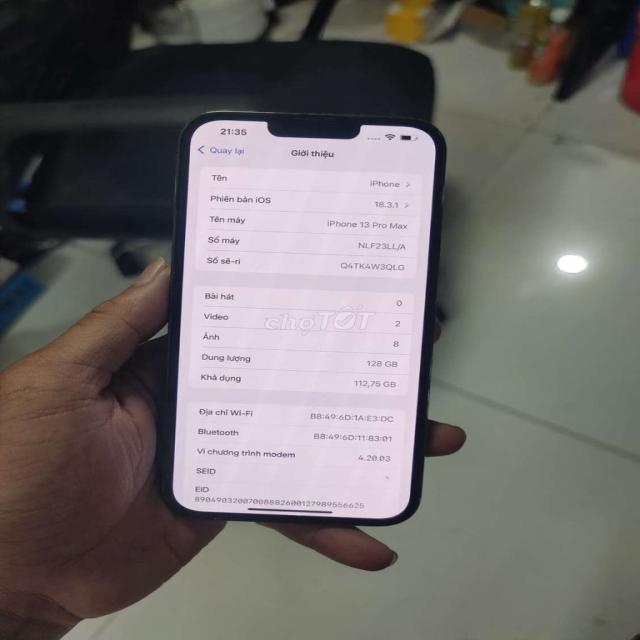gen_12_13: (172, 93, 452, 536)
